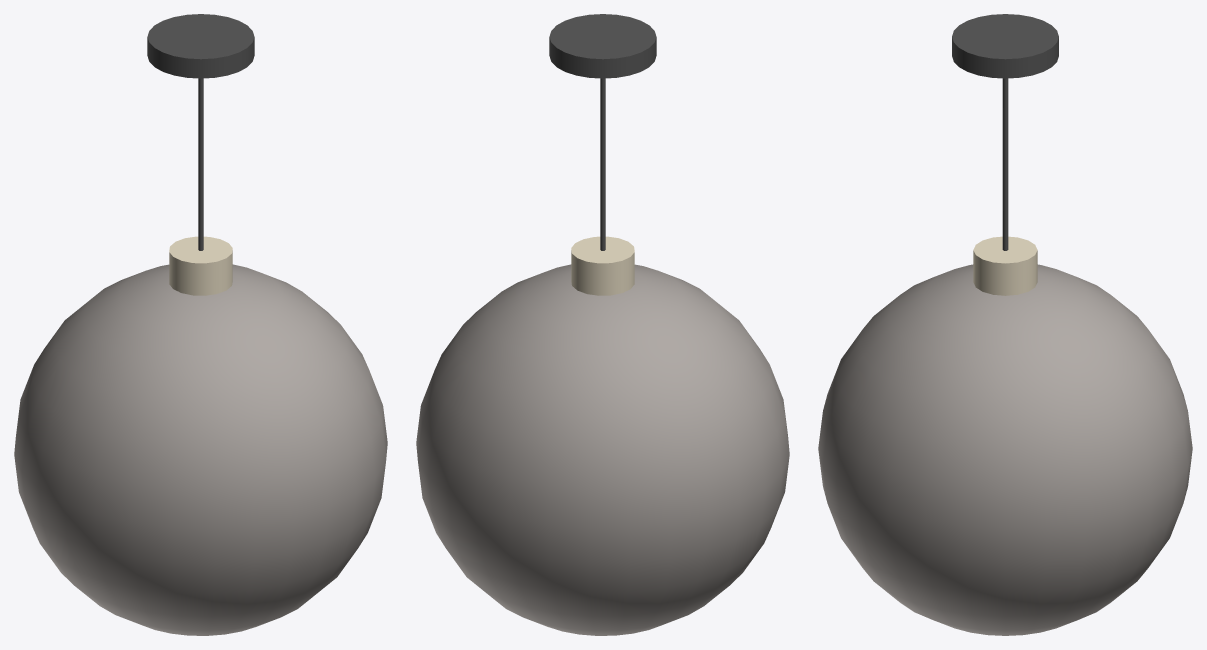
Rendered from it_pendant_globe.glb.
3 renders of one model, left to right at view 1: azimuth 30°, elevation 25°; view 2: azimuth 150°, elevation 25°; view 3: azimuth 270°, elevation 25°, orthographic.
Visible parts, largest first — view 1: globe, canopy, cap, cord; view 2: globe, canopy, cap, cord; view 3: globe, canopy, cap, cord.
Part boxes in pixels (x1,y1,x2,y2): globe: (14, 264, 387, 635); canopy: (147, 14, 254, 78); cap: (169, 236, 232, 295); cord: (198, 78, 203, 250); globe: (416, 264, 789, 635); canopy: (549, 14, 656, 78); cap: (571, 236, 634, 295); cord: (600, 78, 605, 250); globe: (818, 264, 1192, 635); canopy: (952, 14, 1058, 78); cap: (973, 236, 1037, 295); cord: (1002, 78, 1008, 250).
Size of the model in its own units: 0.35 by 0.6 by 0.35.
